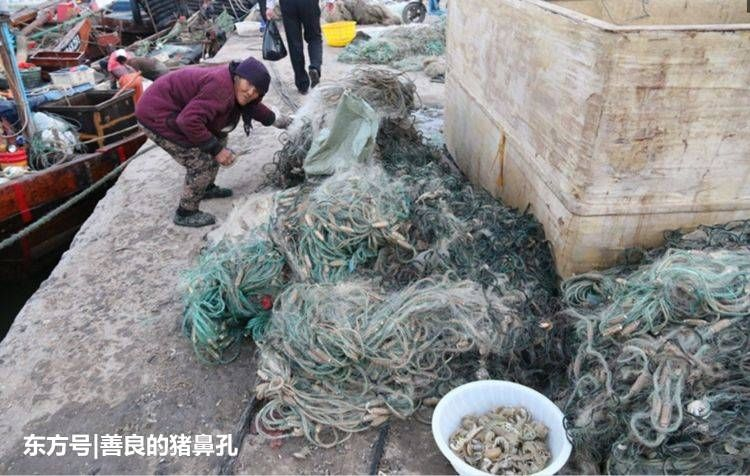net: (291, 208, 429, 374), (412, 243, 564, 370), (575, 248, 750, 354), (585, 360, 750, 470), (382, 126, 499, 248), (192, 221, 300, 349)
